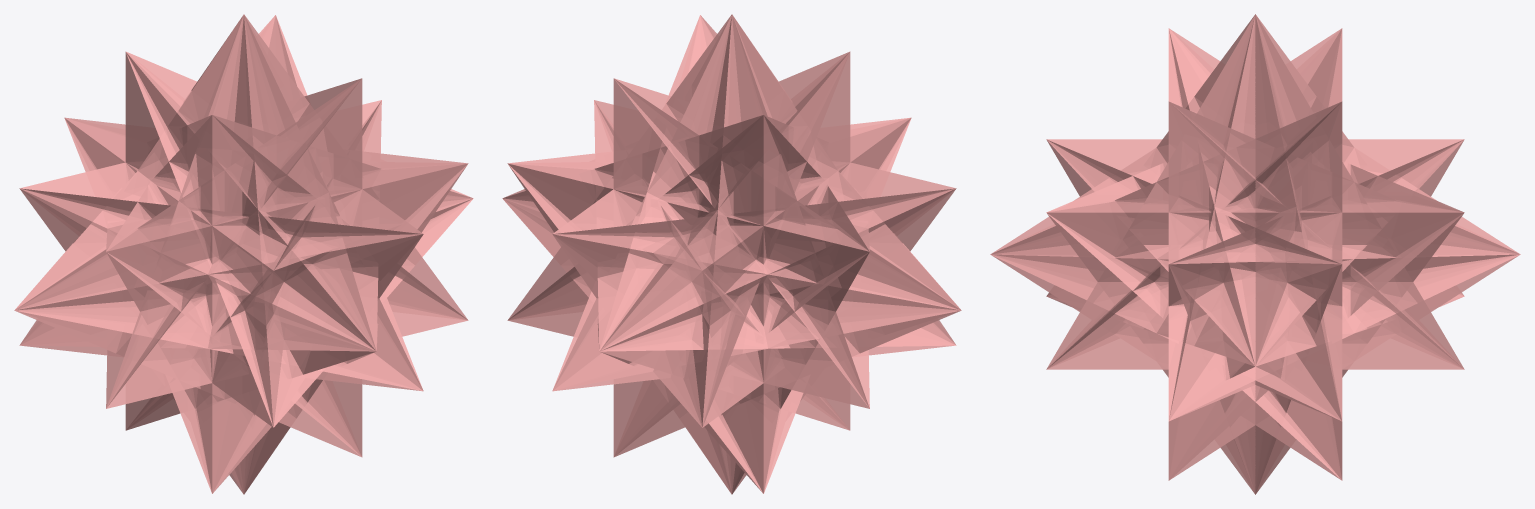
The model's file is 23_Octaexcavated_Quith.obj.
3 renders of one model, left to right at view 1: azimuth 30°, elevation 25°; view 2: azimuth 150°, elevation 25°; view 3: azimuth 270°, elevation 25°, orthographic.
Bounding box in the file's own units: 1.27 × 1.27 × 1.27.
